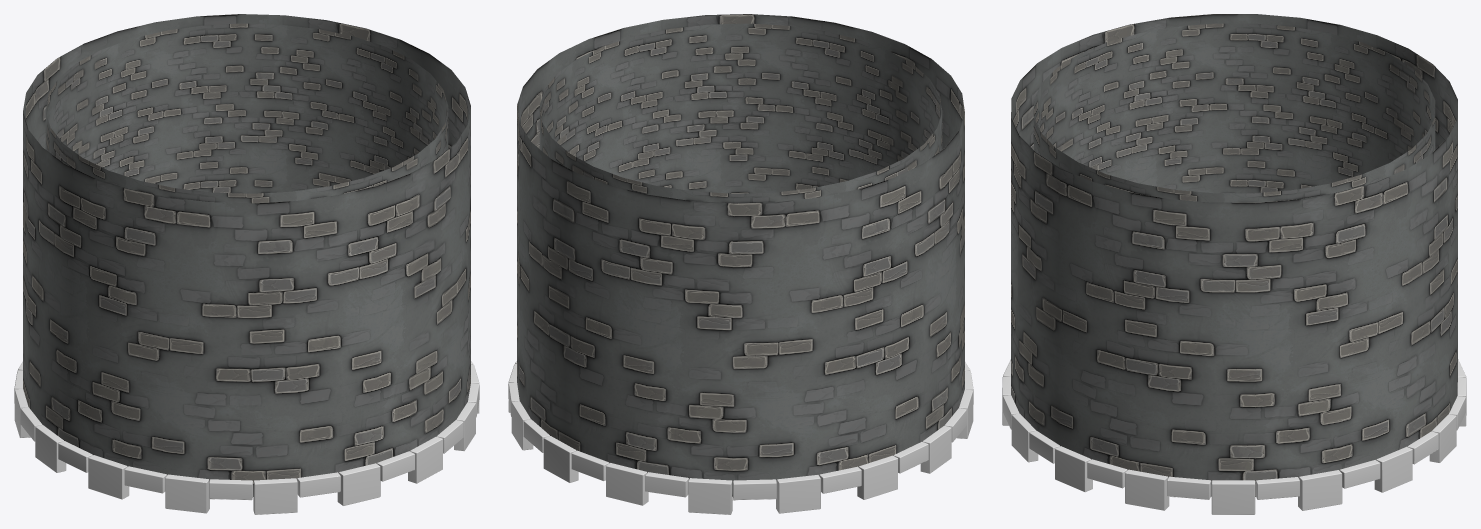
File: SM_Tower_Mid.fbx
3 views of the same model, side by side, from view 1: azimuth 30°, elevation 25°; view 2: azimuth 150°, elevation 25°; view 3: azimuth 270°, elevation 25° (orthographic).
Visible parts, largest first — view 1: SM_Tower_Mid_LOD0; view 2: SM_Tower_Mid_LOD0; view 3: SM_Tower_Mid_LOD0.
Boxes of the visible parts, bbox=[...] form: SM_Tower_Mid_LOD0: bbox=[14, 14, 479, 514]; SM_Tower_Mid_LOD0: bbox=[508, 14, 973, 514]; SM_Tower_Mid_LOD0: bbox=[1002, 14, 1466, 514].
Size of what is drawn, in the model's own units: 14.18 by 10.41 by 14.18.
